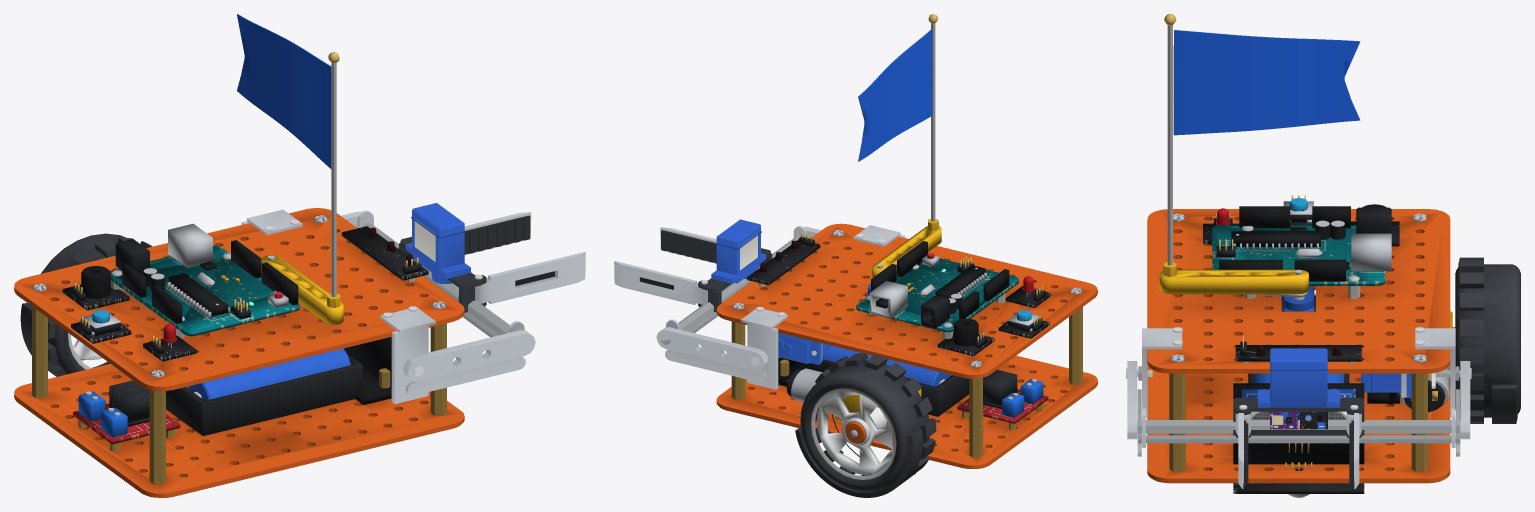
Rendered from robot-kit-low.glb.
3 renders of one model, left to right at view 1: azimuth 30°, elevation 25°; view 2: azimuth 150°, elevation 25°; view 3: azimuth 270°, elevation 25°, orthographic. The views are drawn at different scales.
Visible parts, largest first — view 1: chassis_plate_upper, chassis_plate_lower, board_static, chassis_battery, pennant, gripper_carriage, gripper_boom, chassis_standoffs, chassis_driver, gripper_bracket_static, tyre, gripper_jaw.001 (+9 smaller); view 2: chassis_plate_upper, tyre, chassis_plate_lower, board_static, pennant, rim, gripper_bracket_static, gripper_carriage, gripper_boom, chassis_standoffs, chassis_driver, chassis_battery (+10 smaller); view 3: chassis_plate_upper, pennant, chassis_plate_lower, board_static, tyre, gripper_carriage, gripper_boom, servo_arm, ultrasonic_static, gripper_bracket_static, chassis_standoffs, mast (+11 smaller).
Boxes of the visible parts, <box> form: chassis_plate_upper: <box>14,208,464,390</box>; chassis_plate_lower: <box>14,364,464,497</box>; board_static: <box>110,223,299,338</box>; chassis_battery: <box>166,348,362,435</box>; pennant: <box>237,14,331,168</box>; gripper_carriage: <box>357,203,524,337</box>; gripper_boom: <box>341,211,535,381</box>; chassis_standoffs: <box>32,306,446,484</box>; chassis_driver: <box>73,380,180,451</box>; gripper_bracket_static: <box>241,209,435,404</box>; tyre: <box>20,233,152,376</box>; gripper_jaw.001: <box>475,252,585,303</box>; chassis_plate_upper: <box>716,223,1097,378</box>; tyre: <box>795,353,936,497</box>; chassis_plate_lower: <box>716,355,1097,468</box>; board_static: <box>856,241,1018,340</box>; pennant: <box>858,29,932,161</box>; rim: <box>811,388,896,479</box>; gripper_bracket_static: <box>741,225,905,389</box>; gripper_carriage: <box>666,219,806,333</box>; gripper_boom: <box>656,226,820,370</box>; chassis_standoffs: <box>731,307,1082,457</box>; chassis_driver: <box>957,369,1048,429</box>; chassis_battery: <box>802,345,969,416</box>; chassis_plate_upper: <box>1147,209,1450,373</box>; pennant: <box>1173,30,1360,135</box>; chassis_plate_lower: <box>1147,365,1450,483</box>; board_static: <box>1212,206,1391,298</box>; tyre: <box>1455,257,1520,423</box>; gripper_carriage: <box>1137,348,1460,447</box>; gripper_boom: <box>1126,361,1471,439</box>; servo_arm: <box>1159,269,1308,297</box>; ultrasonic_static: <box>1233,383,1364,464</box>; gripper_bracket_static: <box>1138,327,1459,417</box>; chassis_standoffs: <box>1169,373,1427,471</box>; mast: <box>1163,14,1176,276</box>.
Bounding box in the file's own units: 0.225 × 0.1922 × 0.1565.
44 materials, 6 textured.
